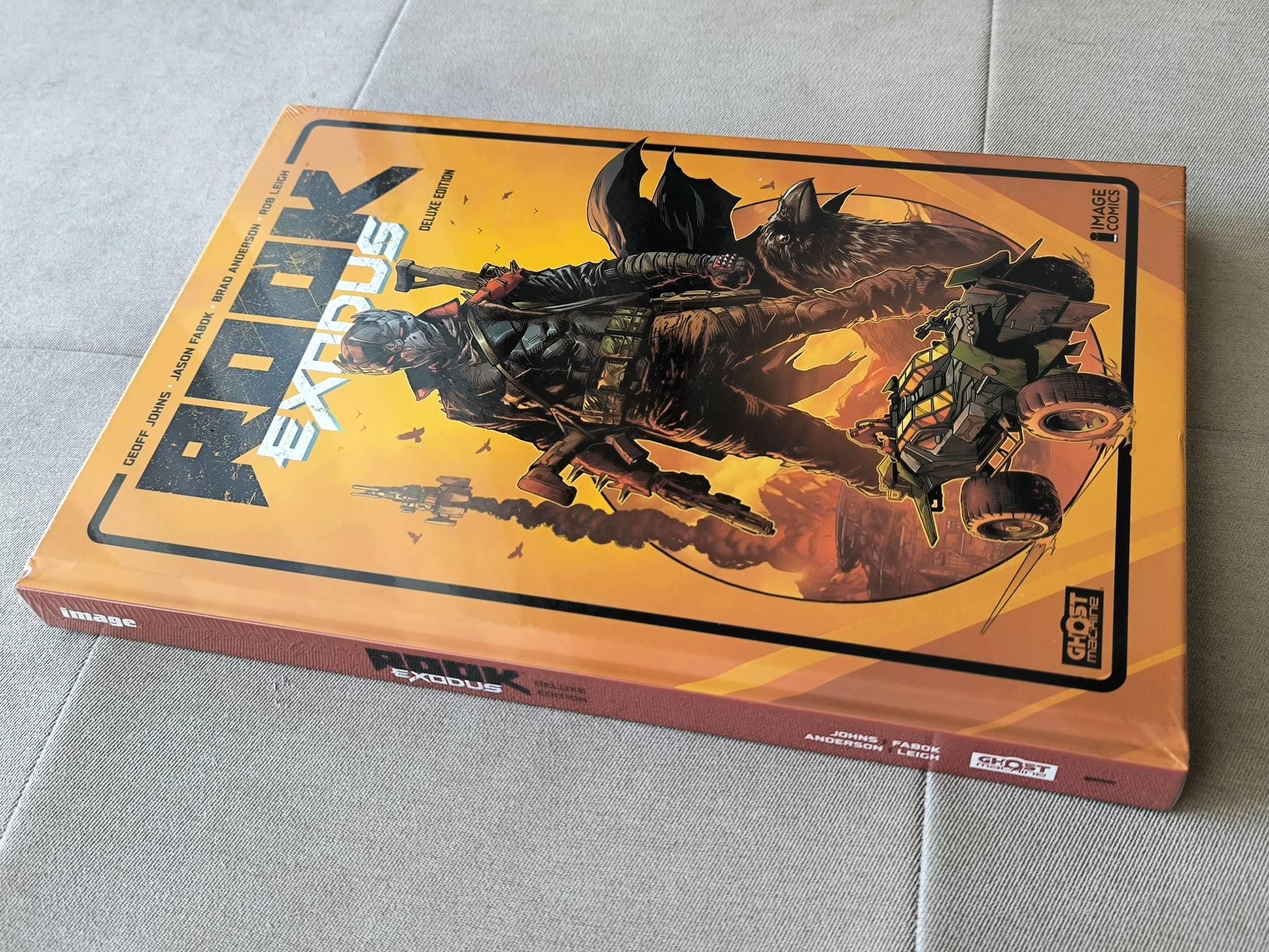comic: (12, 7, 1269, 809)
